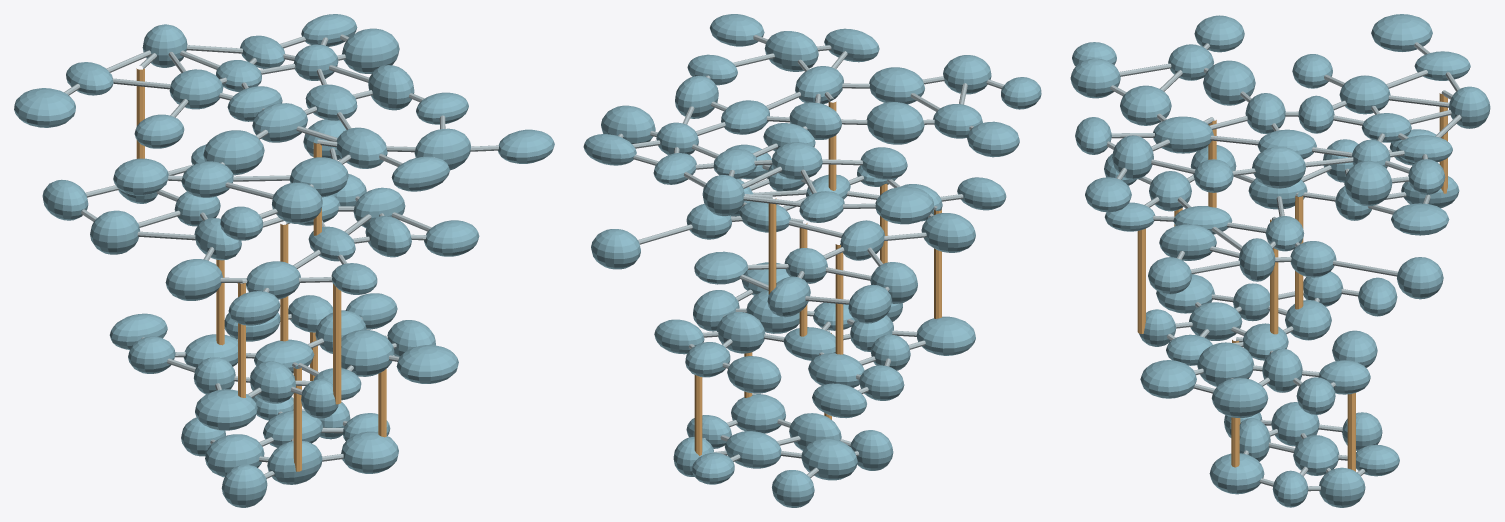
The model's file is alibe-city.glb.
3 views of the same model, side by side, from view 1: azimuth 30°, elevation 25°; view 2: azimuth 150°, elevation 25°; view 3: azimuth 270°, elevation 25° (orthographic). The views are drawn at different scales.
Visible parts, largest first — view 1: L3_Bubble_01, L3_Bubble_02, L1_Bubble_12, L1_Bubble_08, L1_Bubble_02, L3_Bubble_09, L4_Bubble_02, L2_Bubble_14, L4_Bubble_03, L2_Bubble_11, L1_Bubble_13, L4_Bubble_06 (+55 smaller); view 2: L1_Bubble_02, L4_Bubble_03, L3_Bubble_02, L1_Bubble_08, L2_Bubble_14, L4_Bubble_02, L1_Bubble_14, L4_Bubble_01, L2_Bubble_01, L1_Bubble_03, L3_Bubble_12, L3_Bubble_08 (+54 smaller); view 3: L3_Bubble_01, L1_Bubble_02, L1_Bubble_08, L3_Bubble_10, L1_Bubble_24, L3_Bubble_09, L1_Bubble_12, L1_Bubble_05, L4_Bubble_02, L1_Bubble_03, L2_Bubble_02, L2_Bubble_01 (+56 smaller).
Part boxes in pixels (x1=…): L3_Bubble_01: x1=341, y1=330, x2=394, y2=376; L3_Bubble_02: x1=195, y1=389, x2=257, y2=430; L1_Bubble_12: x1=342, y1=28, x2=399, y2=73; L1_Bubble_08: x1=14, y1=88, x2=75, y2=127; L1_Bubble_02: x1=203, y1=130, x2=264, y2=175; L3_Bubble_09: x1=396, y1=345, x2=458, y2=383; L4_Bubble_02: x1=341, y1=431, x2=398, y2=473; L2_Bubble_14: x1=165, y1=259, x2=222, y2=300; L4_Bubble_03: x1=205, y1=434, x2=264, y2=477; L2_Bubble_11: x1=90, y1=210, x2=139, y2=254; L1_Bubble_13: x1=272, y1=182, x2=322, y2=223; L4_Bubble_06: x1=267, y1=441, x2=322, y2=484; L1_Bubble_02: x1=866, y1=102, x2=924, y2=144; L4_Bubble_03: x1=801, y1=438, x2=857, y2=480; L3_Bubble_02: x1=916, y1=316, x2=975, y2=355; L1_Bubble_08: x1=875, y1=186, x2=934, y2=224; L2_Bubble_14: x1=921, y1=213, x2=975, y2=252; L4_Bubble_02: x1=731, y1=394, x2=785, y2=433; L1_Bubble_14: x1=764, y1=31, x2=818, y2=71; L4_Bubble_01: x1=725, y1=431, x2=781, y2=468; L2_Bubble_01: x1=591, y1=229, x2=640, y2=269; L1_Bubble_03: x1=869, y1=67, x2=924, y2=104; L3_Bubble_12: x1=727, y1=356, x2=781, y2=393; L3_Bubble_08: x1=716, y1=312, x2=765, y2=353; L3_Bubble_01: x1=1197, y1=342, x2=1254, y2=386; L1_Bubble_02: x1=1203, y1=60, x2=1255, y2=105; L1_Bubble_08: x1=1371, y1=14, x2=1432, y2=51; L3_Bubble_10: x1=1211, y1=378, x2=1268, y2=417; L1_Bubble_24: x1=1252, y1=146, x2=1305, y2=188; L3_Bubble_09: x1=1140, y1=360, x2=1196, y2=398; L1_Bubble_12: x1=1344, y1=160, x2=1392, y2=206; L1_Bubble_05: x1=1153, y1=116, x2=1213, y2=153; L4_Bubble_02: x1=1209, y1=453, x2=1264, y2=494; L1_Bubble_03: x1=1120, y1=85, x2=1171, y2=125; L2_Bubble_02: x1=1159, y1=224, x2=1216, y2=260; L2_Bubble_01: x1=1397, y1=257, x2=1443, y2=299.
Bounding box in the file's own units: 13.42 × 12.97 × 13.27.
